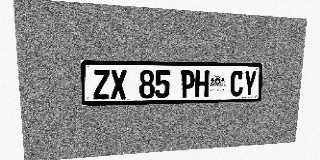5: (155, 70, 170, 98)
8: (139, 70, 155, 99)
C: (230, 70, 244, 97)
H: (195, 70, 209, 97)
P: (180, 70, 195, 98)
X: (110, 69, 127, 99)
Y: (243, 70, 257, 96)
Z: (93, 69, 110, 100)
